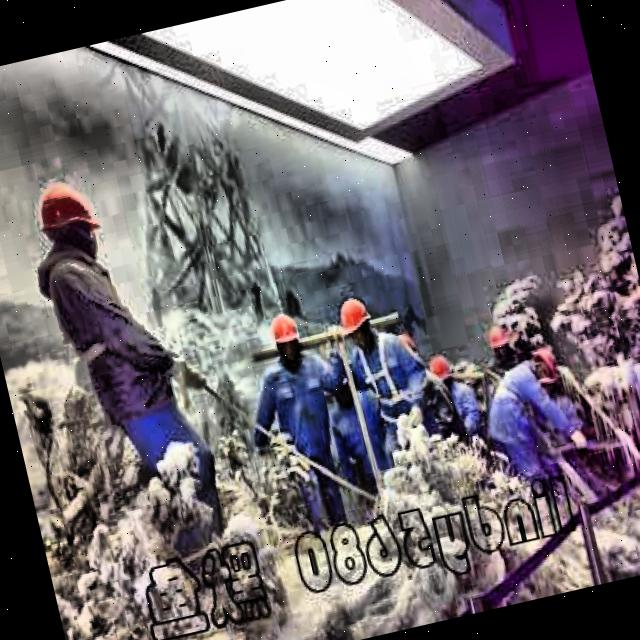helmet: (30, 172, 109, 271), (332, 290, 378, 355), (262, 306, 306, 368), (419, 344, 463, 406), (518, 340, 566, 388), (480, 316, 518, 366)
